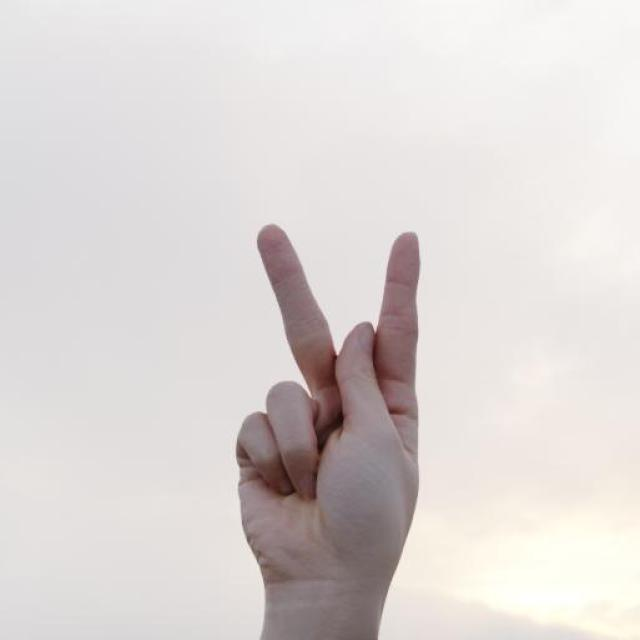K: (231, 213, 441, 623)
